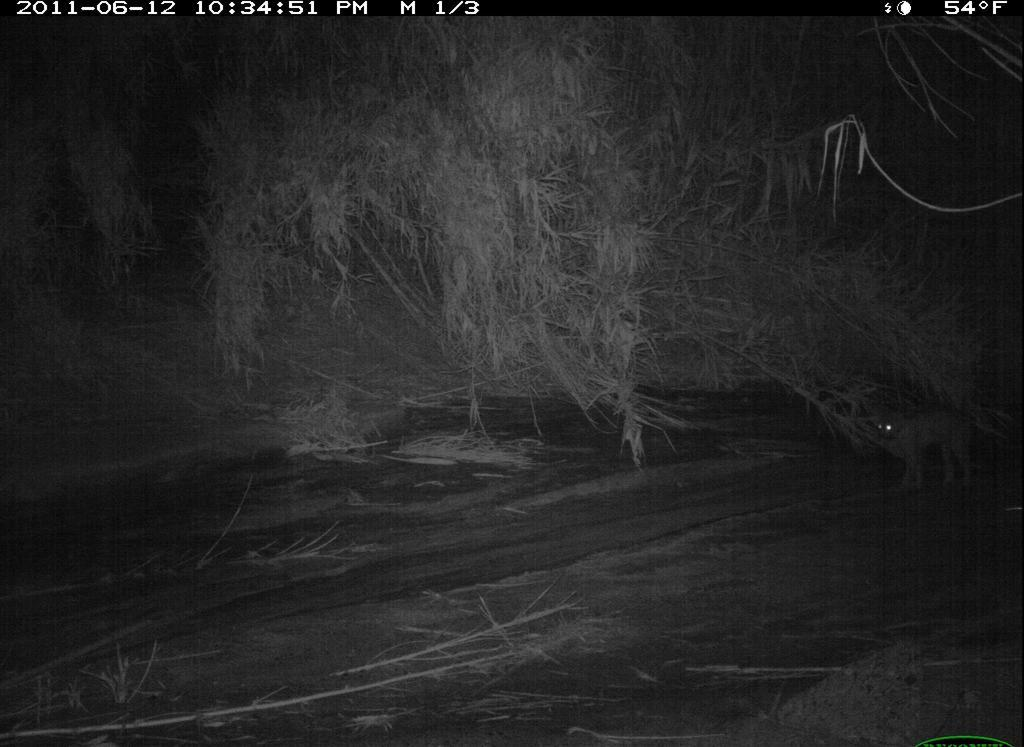bobcat: (859, 397, 1003, 500)
